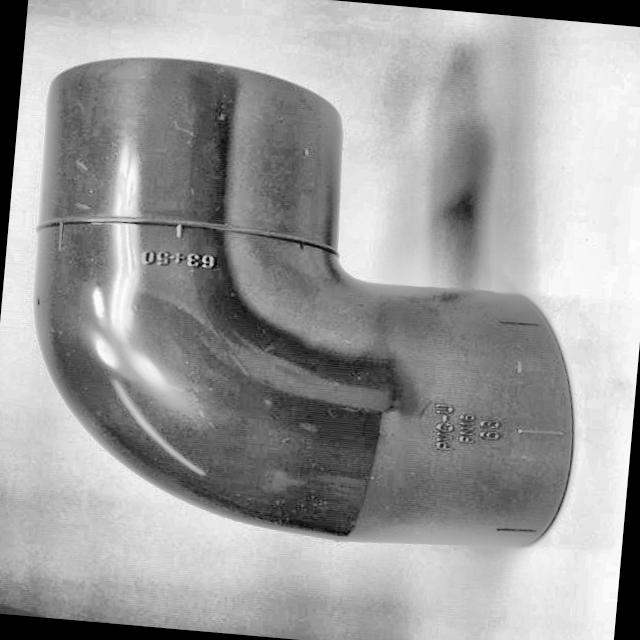ELBOW90: (33, 55, 577, 549)
